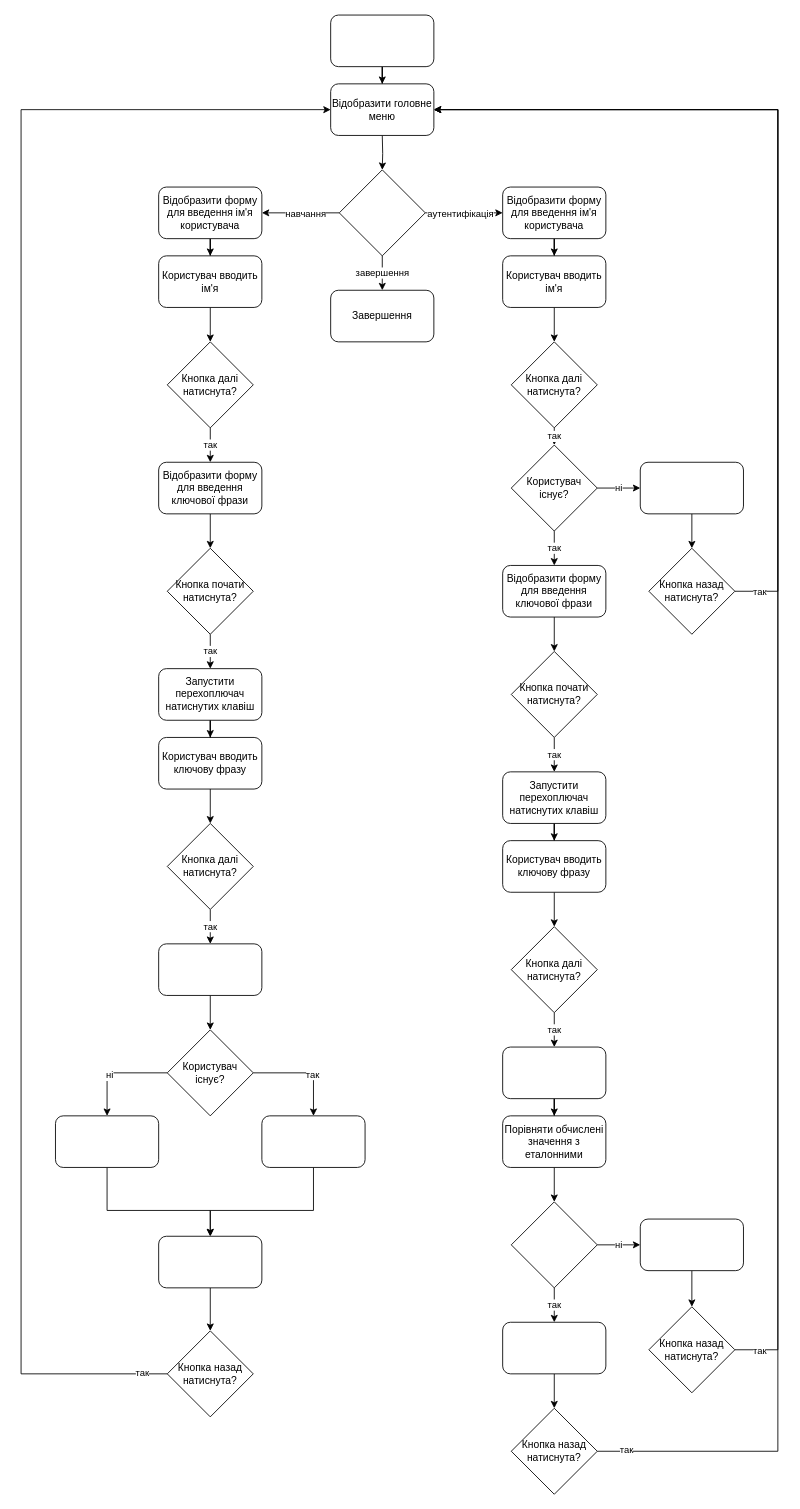
Some shapes in this 800 by 1509 pixel diagram are drawn without their labels. The shapes that lost their labels are listed below. From the top down, each one's centre as x and y in pixels, then its label:
At (382,40): "Початок".
At (381,212): "Режим роботи".
At (691,487): "Відобразити повідомлення, що користувача не існує".
At (210,969): "Обчислити статистичні дані".
At (554,1072): "Взяти значення про користувача з бази даних".
At (107,1141): "Додати користувача".
At (313,1141): "Оновити дані про користувача".
At (210,1261): "Відобразити повідомлення про успішне навчання".
At (553,1244): "Користувач правильний?".
At (691,1244): "Відобразити повідомлення, що дані не є коректними".
At (554,1347): "Відобразити повідомлення про успішну аутентифікацію".
